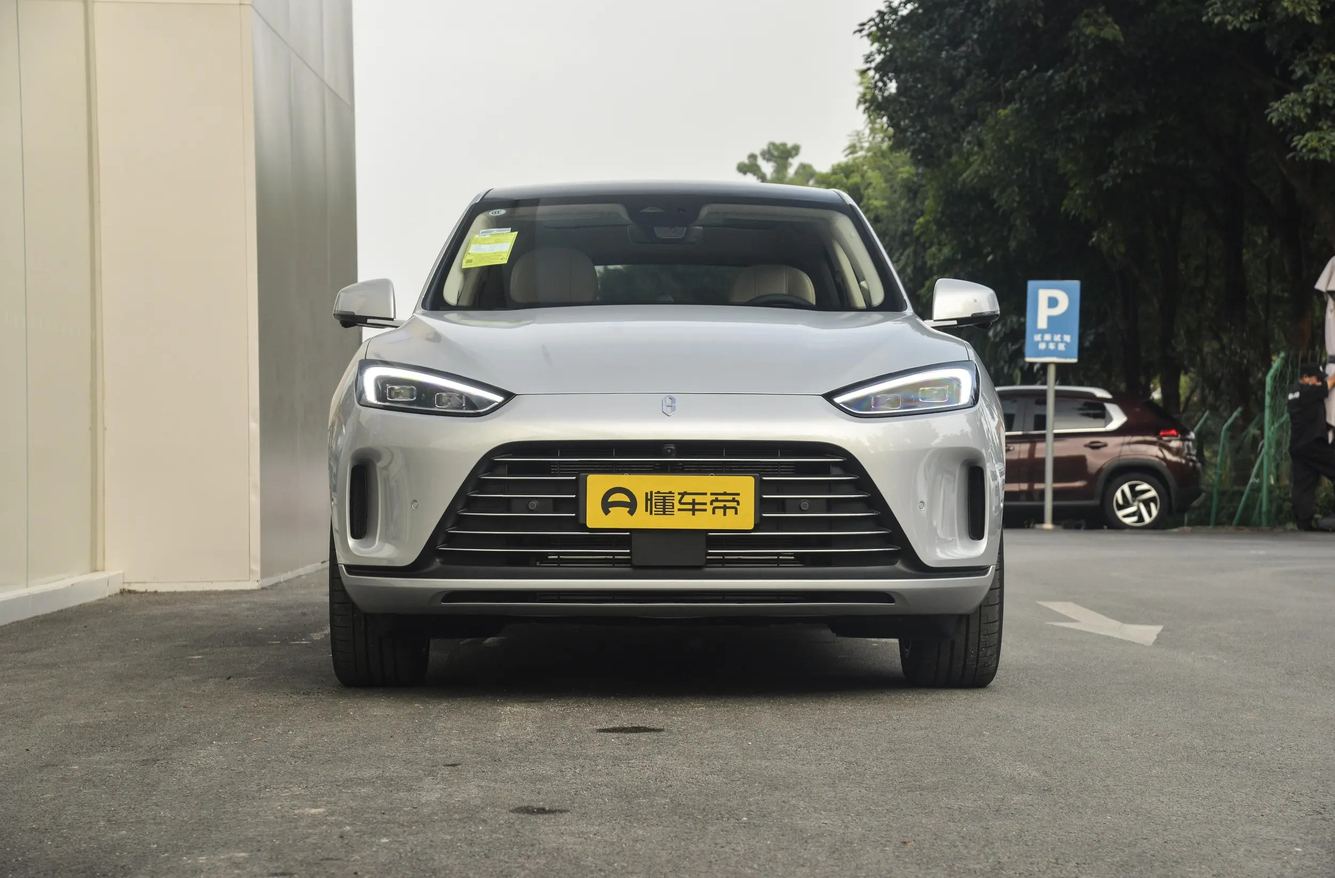AITO: (662, 395, 676, 416)
